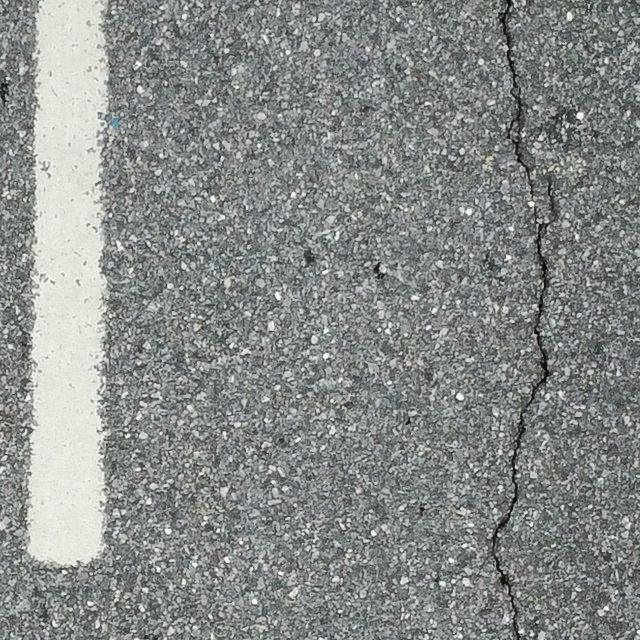LongitudinalCrack: (489, 2, 559, 640)
